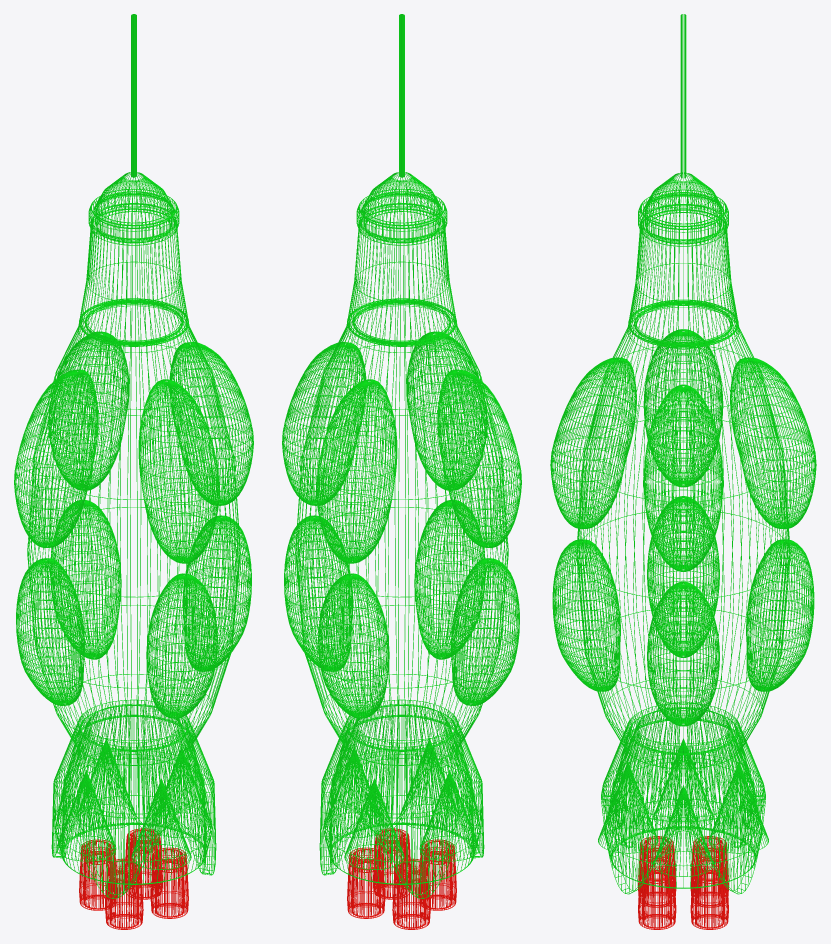
The model's file is virus-missile-highlight-main-thrusters.glb.
3 views of the same model, side by side, from view 1: azimuth 30°, elevation 25°; view 2: azimuth 150°, elevation 25°; view 3: azimuth 270°, elevation 25° (orthographic).
Visible parts, largest first — view 1: chassis technical wire, binary-agent-pods technical wire, main-thrusters technical wire, atmospheric-resistance-sensors technical wire; view 2: chassis technical wire, binary-agent-pods technical wire, main-thrusters technical wire, atmospheric-resistance-sensors technical wire; view 3: binary-agent-pods technical wire, chassis technical wire, atmospheric-resistance-sensors technical wire, main-thrusters technical wire.
Boxes of the visible parts, left/top/right/bottom form: chassis technical wire: left=27, top=14, right=240, bottom=898; binary-agent-pods technical wire: left=14, top=331, right=253, bottom=718; main-thrusters technical wire: left=79, top=828, right=188, bottom=929; atmospheric-resistance-sensors technical wire: left=56, top=739, right=211, bottom=869; chassis technical wire: left=295, top=14, right=508, bottom=898; binary-agent-pods technical wire: left=282, top=331, right=521, bottom=718; main-thrusters technical wire: left=347, top=828, right=456, bottom=929; atmospheric-resistance-sensors technical wire: left=324, top=739, right=479, bottom=869; binary-agent-pods technical wire: left=550, top=329, right=816, bottom=726; chassis technical wire: left=576, top=14, right=790, bottom=894; atmospheric-resistance-sensors technical wire: left=598, top=738, right=768, bottom=876; main-thrusters technical wire: left=638, top=836, right=728, bottom=929.
Size of the model in its own units: 1.78 by 6.61 by 1.78.
